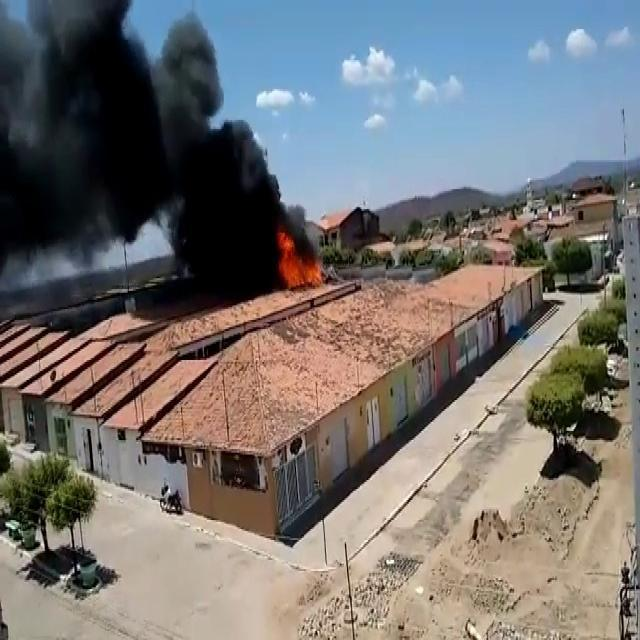Fire: (275, 225, 321, 295)
Smoke: (0, 0, 279, 298)
